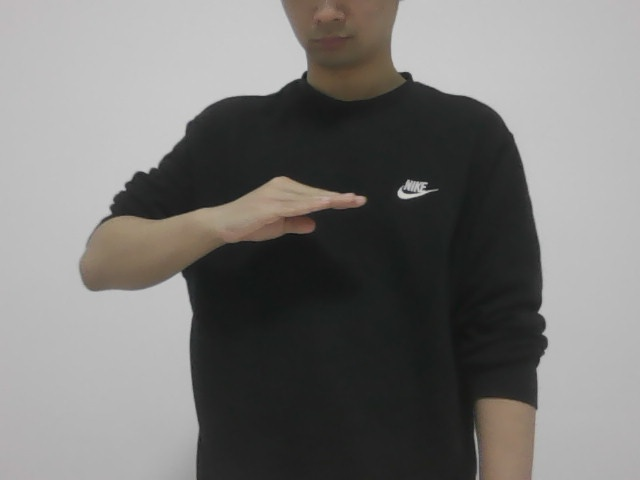late/night: (223, 176, 371, 241)
